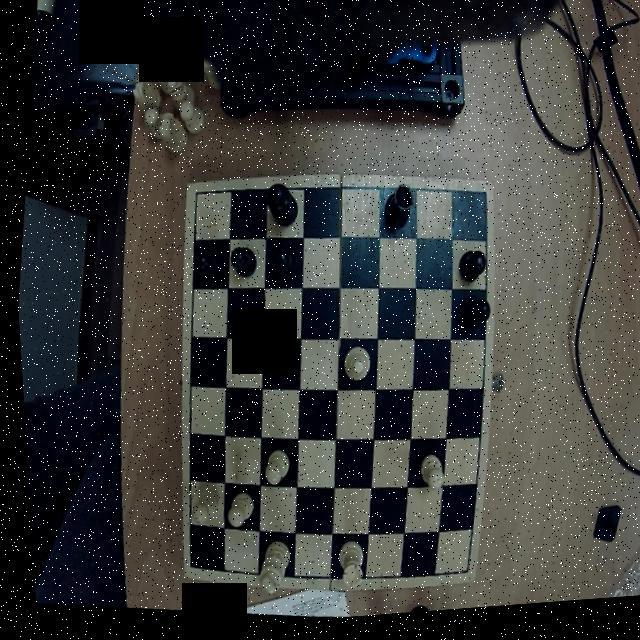chess-table-corners: (466, 189, 492, 217), (184, 183, 208, 210), (174, 551, 194, 582), (444, 566, 466, 591)
